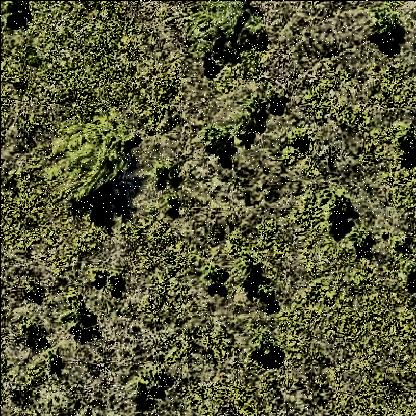tree-top: (53, 118, 133, 194), (186, 5, 256, 41), (133, 369, 173, 411), (66, 293, 96, 342), (238, 98, 265, 140), (386, 124, 416, 160), (253, 335, 283, 364), (323, 193, 354, 221), (1, 1, 33, 28), (205, 124, 233, 154), (238, 255, 265, 286), (22, 319, 49, 349), (349, 228, 374, 258), (376, 13, 403, 38), (200, 263, 224, 285)
